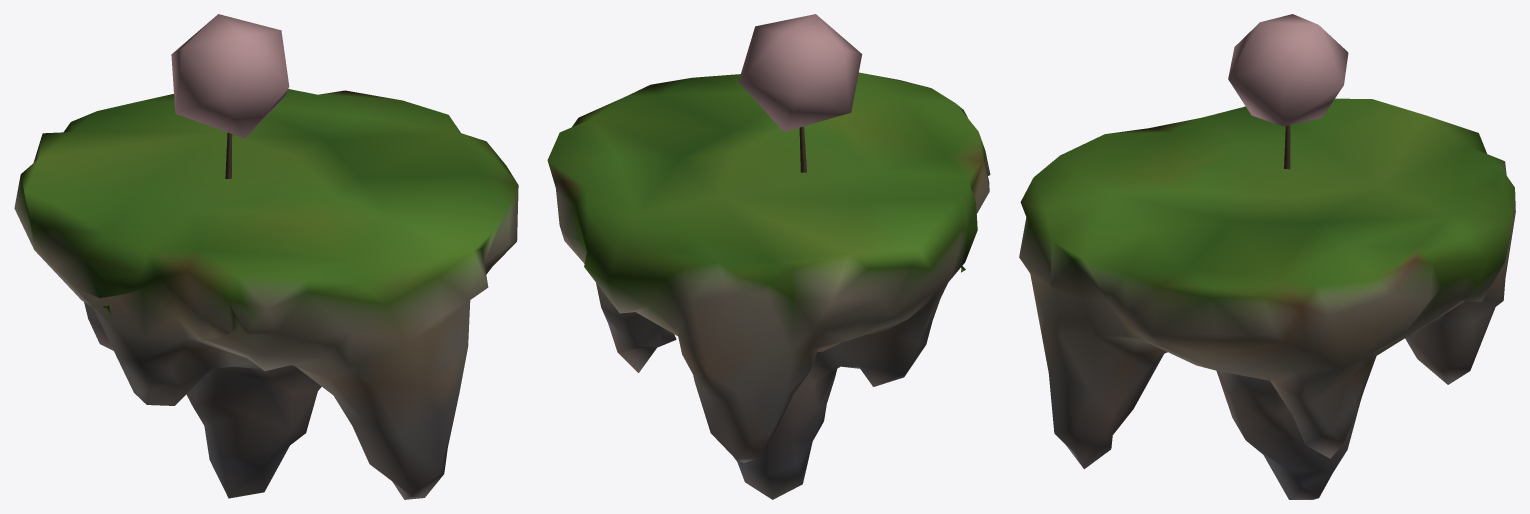
The model's file is island-blossom-lod2.glb.
3 renders of one model, left to right at view 1: azimuth 30°, elevation 25°; view 2: azimuth 150°, elevation 25°; view 3: azimuth 270°, elevation 25°, orthographic. The views are drawn at different scales.
Visible parts, largest first — view 1: Silhouette; view 2: Silhouette; view 3: Silhouette.
Part boxes in pixels (x1,y1,x2,y2): Silhouette: (14, 14, 518, 499); Silhouette: (547, 14, 990, 499); Silhouette: (1019, 14, 1515, 499).
Size of the model in its own units: 21.74 by 24.3 by 23.3.
